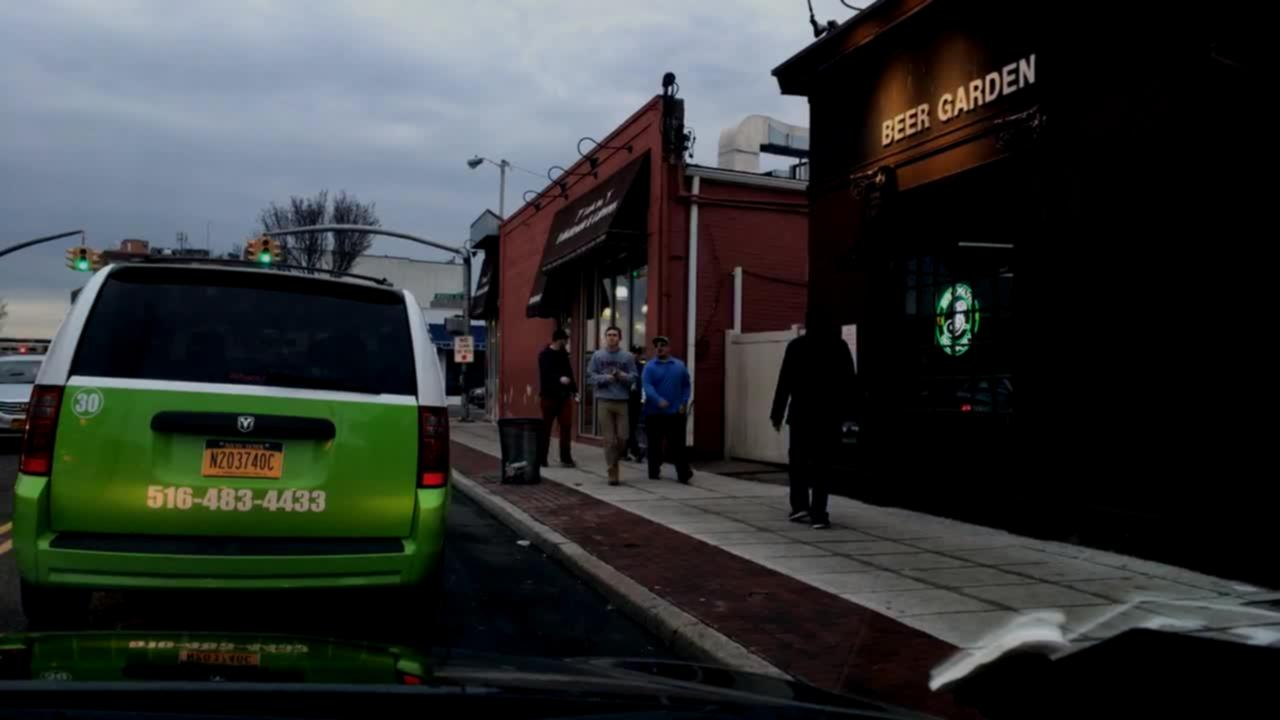ram: (233, 407, 260, 439)
